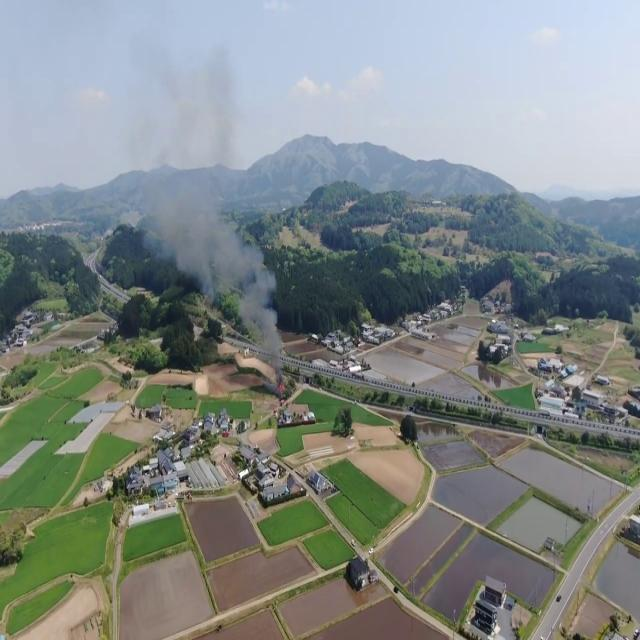Smoke: (142, 36, 286, 358)
